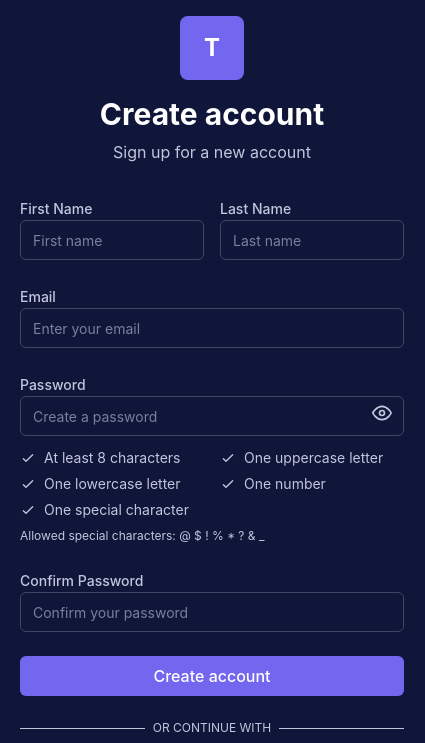
Scenario: RegisterPage › handles registration error
Type "John" into the field with placeholder "First name" at [112, 240], box 20,220 -> 204,260
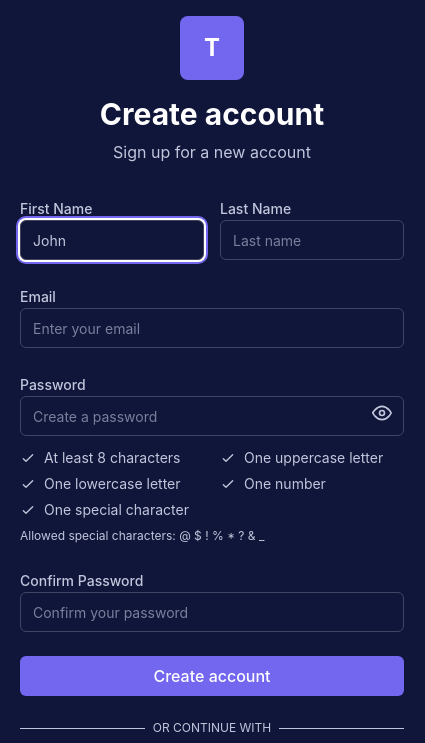
Type "Doe" into the field with placeholder "Last name" at [312, 240], box 220,220 -> 404,260
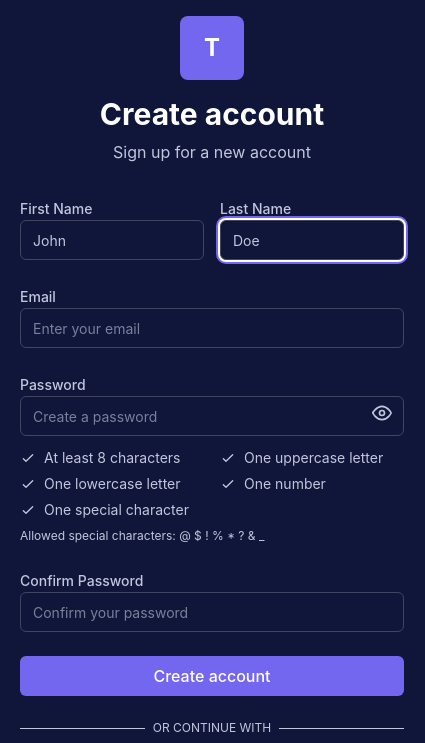
Type "test@example.com" into the field with placeholder "Enter your email" at [212, 328], box 20,308 -> 404,348
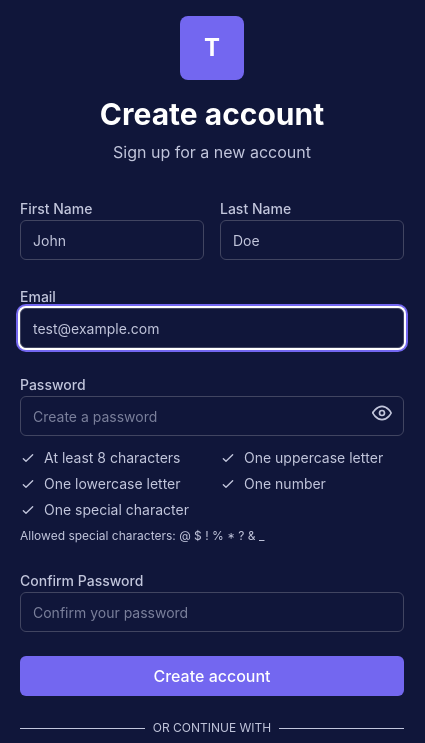
Type "Password123!" into the password field with placeholder "Create a password" at [212, 416], box 20,396 -> 404,436
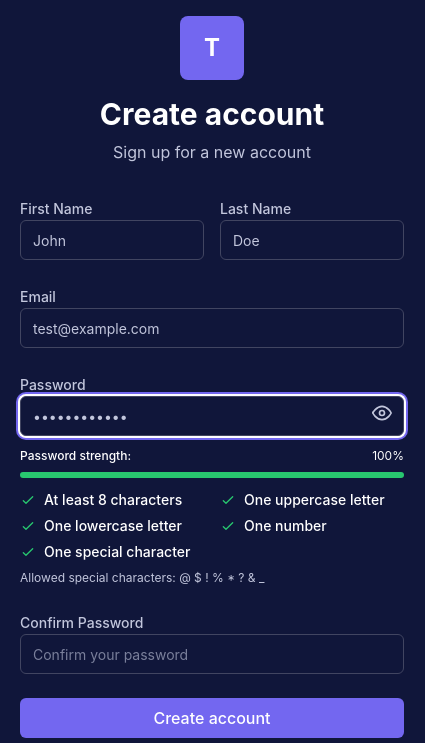
Type "Password123!" into the password field with placeholder "Confirm your password" at [212, 654], box 20,634 -> 404,674
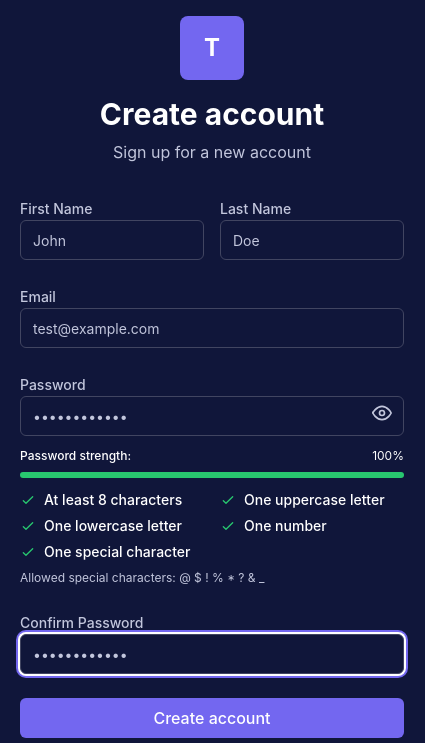
Click the button "Create account" at [212, 718], box 20,698 -> 404,738
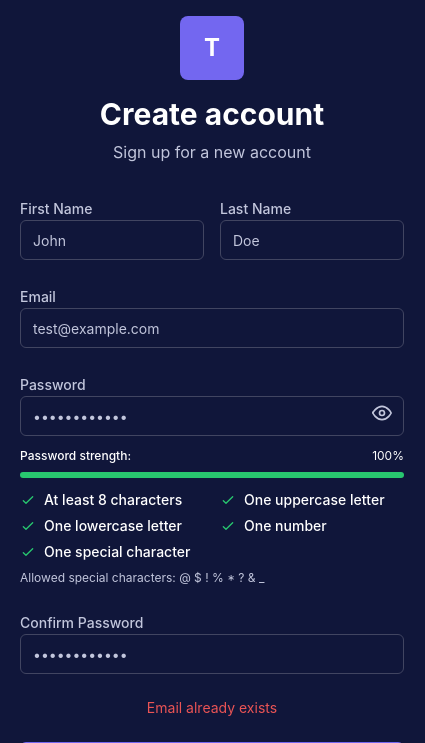
Expected: the text "Email already exists" is shown, 147,699 -> 277,716
